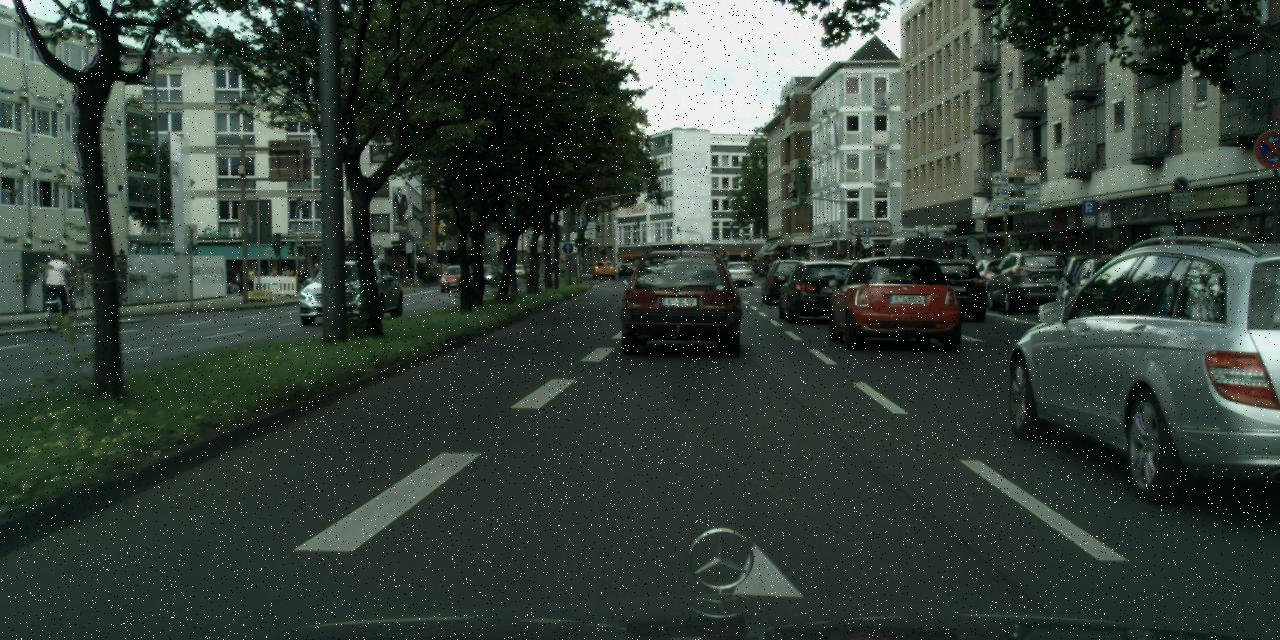ped: (46, 250, 73, 318), (234, 264, 242, 297), (296, 266, 306, 292), (280, 264, 290, 290), (248, 262, 256, 294), (312, 263, 322, 288), (268, 268, 276, 290), (264, 271, 264, 274)
